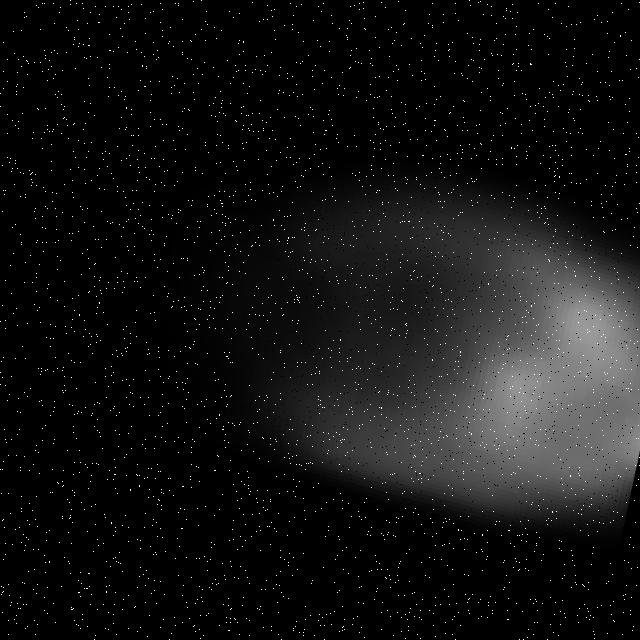person: (3, 52, 640, 570)
